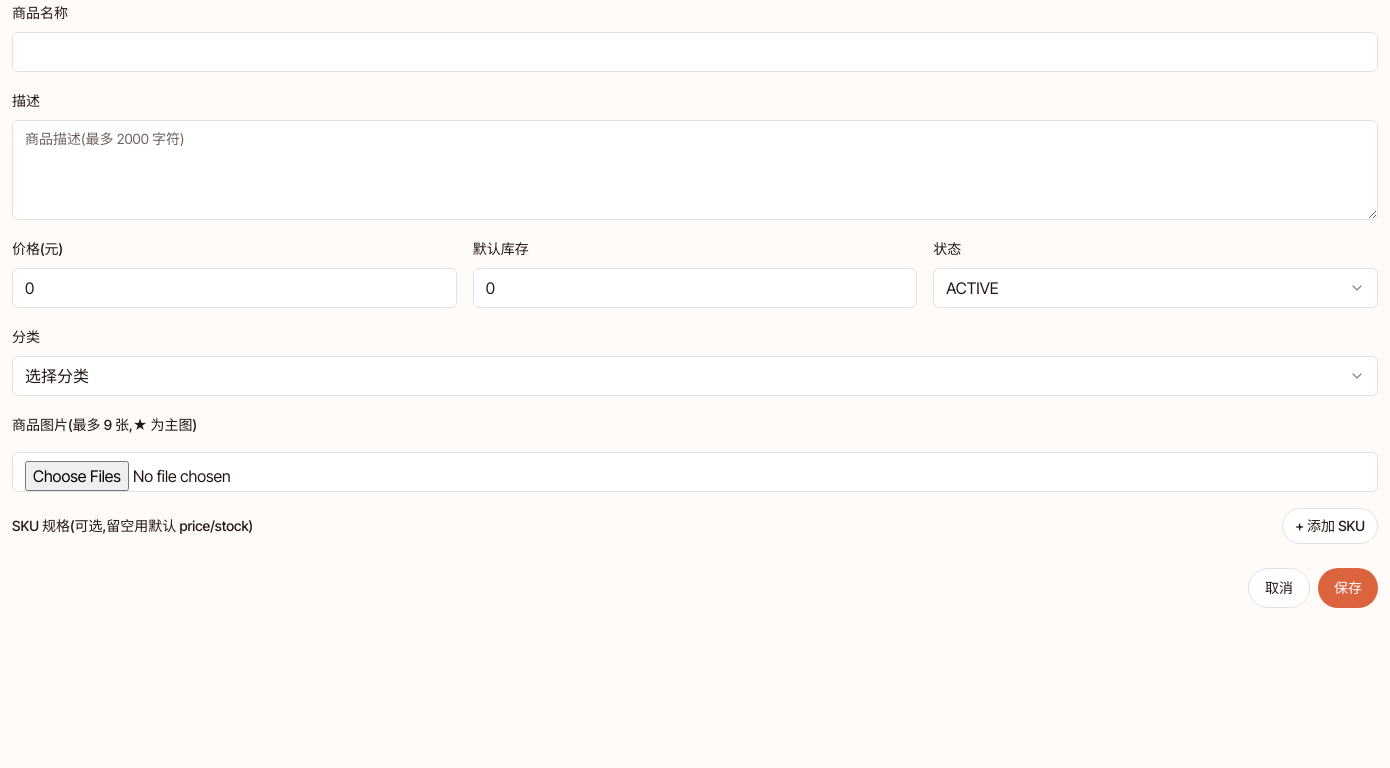
Test: ProductForm validation › rejects empty submission and shows errors
Click the button "保存" at (1348, 588), box [1318, 568, 1378, 608]
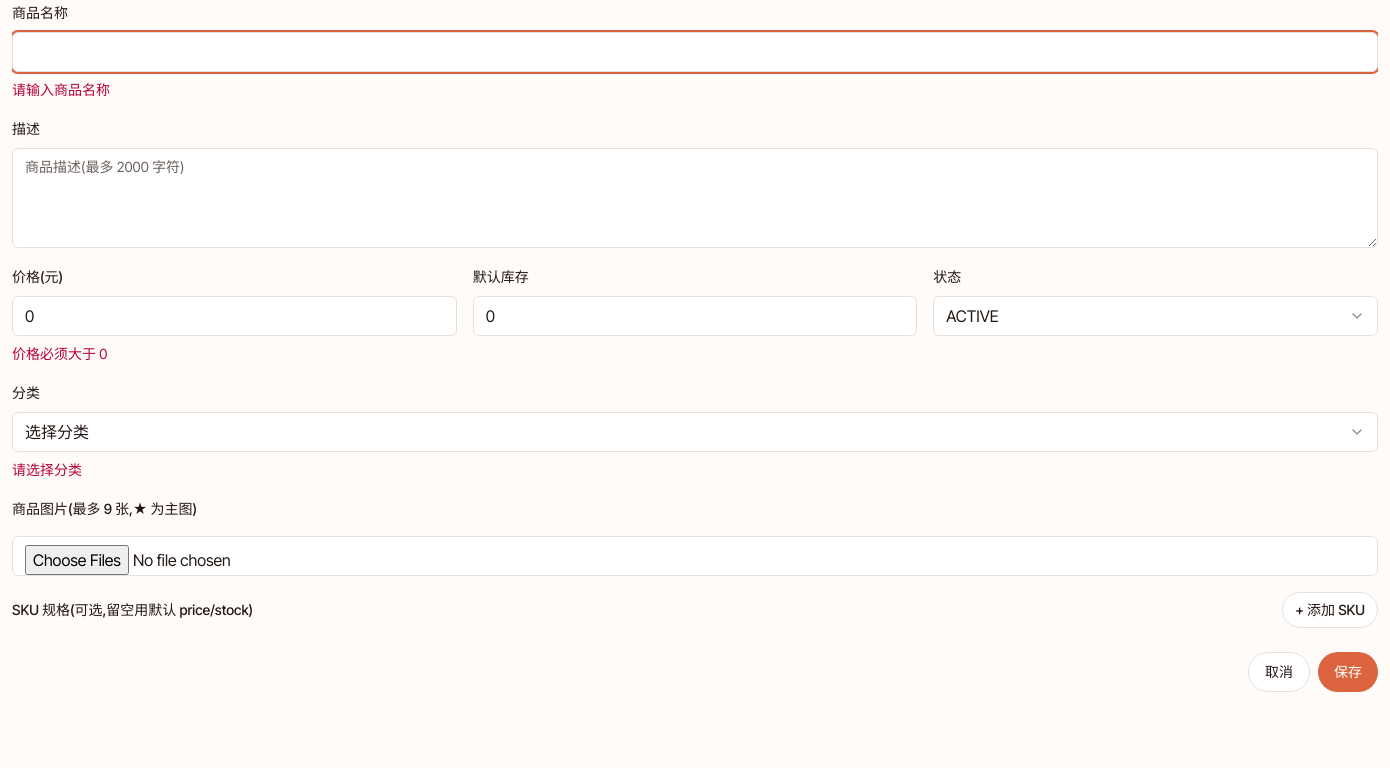
expect the text "请输入商品名称" is shown: met, box [12, 81, 110, 98]
